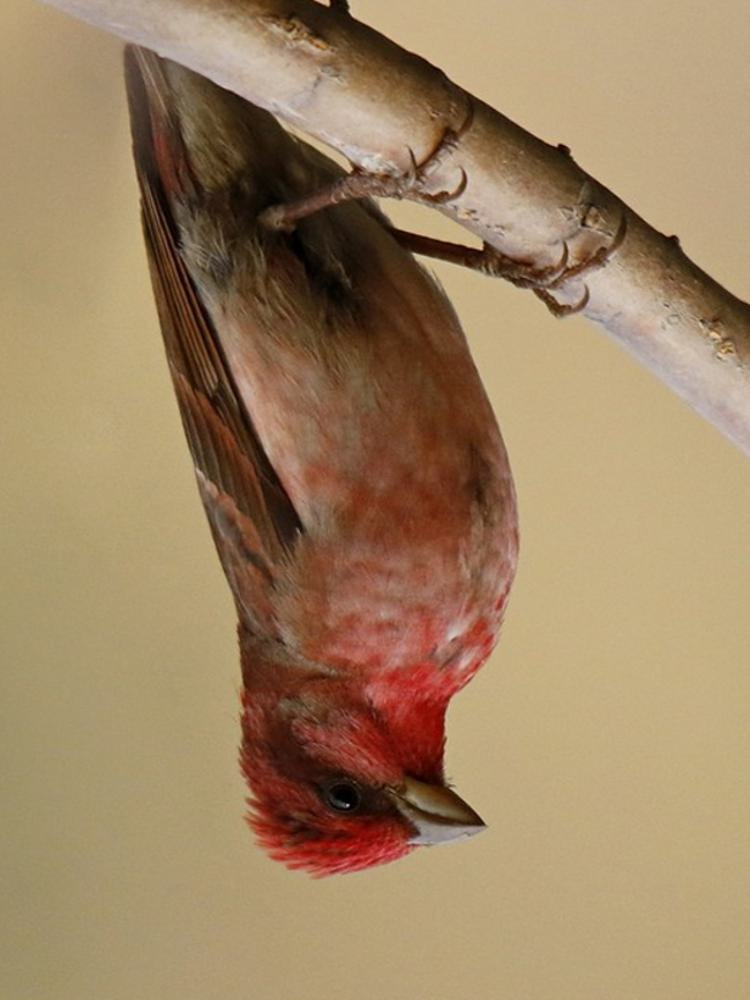rosefinch: (196, 64, 548, 906)
